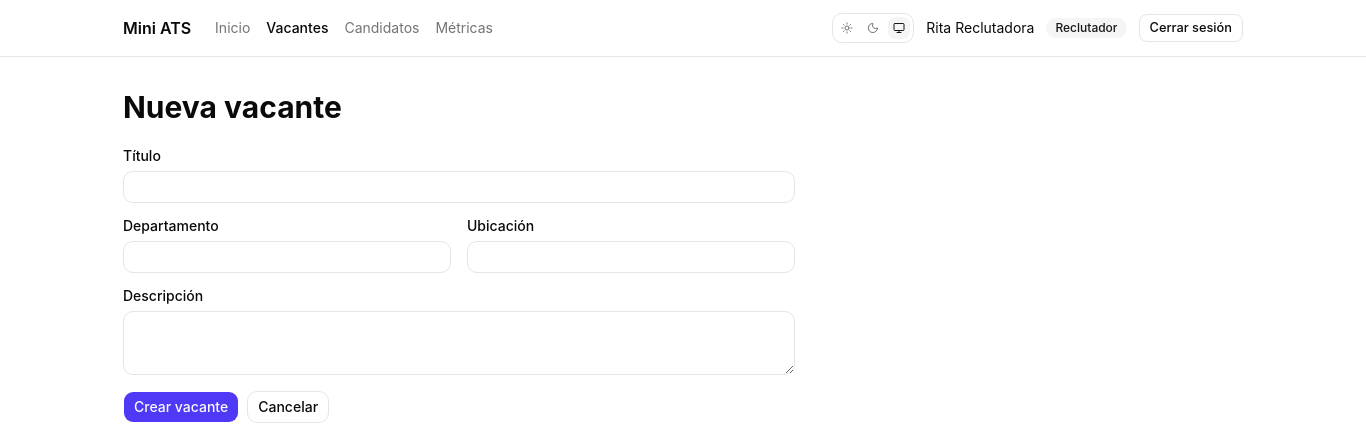
Test: job form › disables the button while saving
Type "QA" into the field labelled "Título" at (459, 187), box x1=123 y1=171 x2=795 y2=203
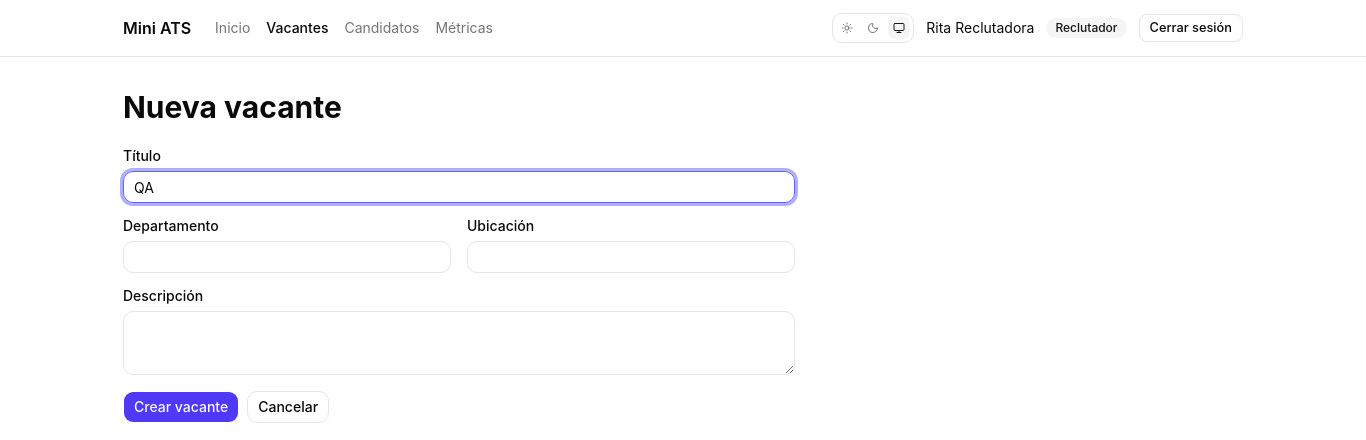
Click the button "Crear vacante" at (181, 407), box x1=123 y1=391 x2=239 y2=423
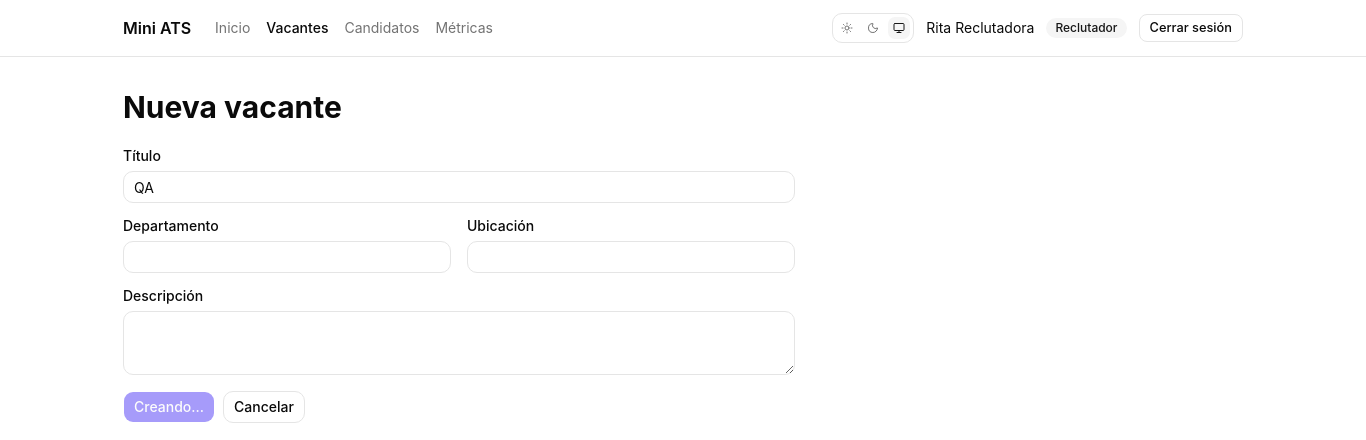
Expected: the button "Creando…" is disabled, x1=123 y1=391 x2=215 y2=423
